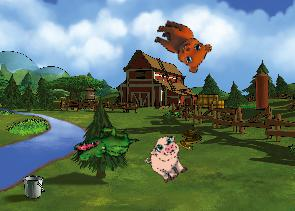bear: (146, 16, 215, 76)
crocodile: (71, 113, 140, 176)
pig: (140, 131, 194, 187)
